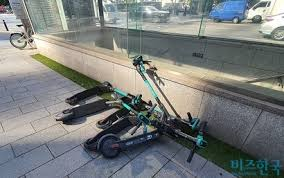fallin_kick: (80, 115, 207, 162)
